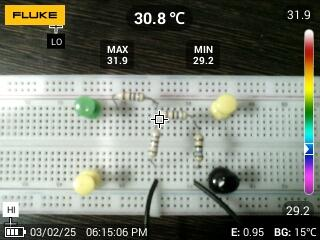resistor: (158, 106, 192, 124), (115, 85, 146, 104), (144, 127, 162, 159), (190, 130, 207, 163)
